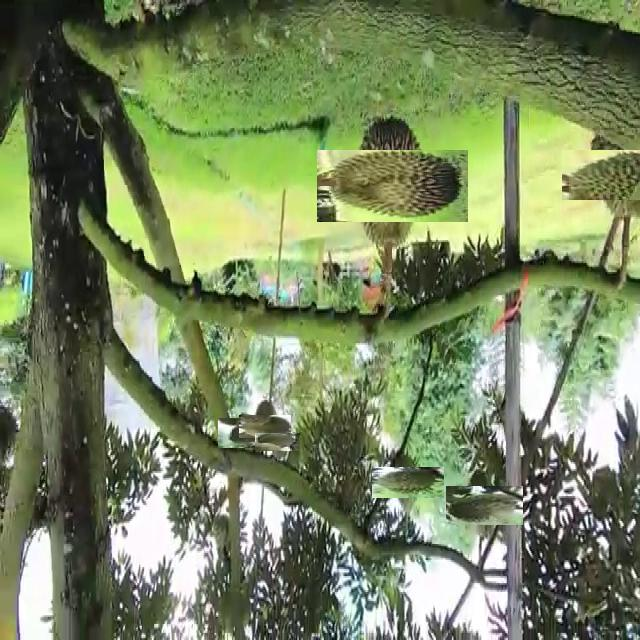durian: (336, 130, 448, 242), (575, 137, 640, 213), (455, 476, 513, 535), (383, 456, 434, 509), (225, 410, 272, 457), (247, 407, 284, 446), (262, 426, 293, 459)
